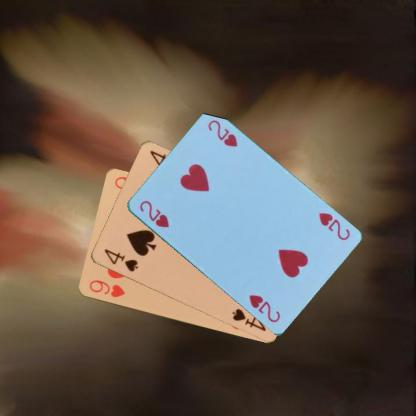2h: (316, 210, 352, 242), (136, 198, 170, 230)
4s: (101, 246, 139, 273)
9h: (86, 277, 127, 299)
